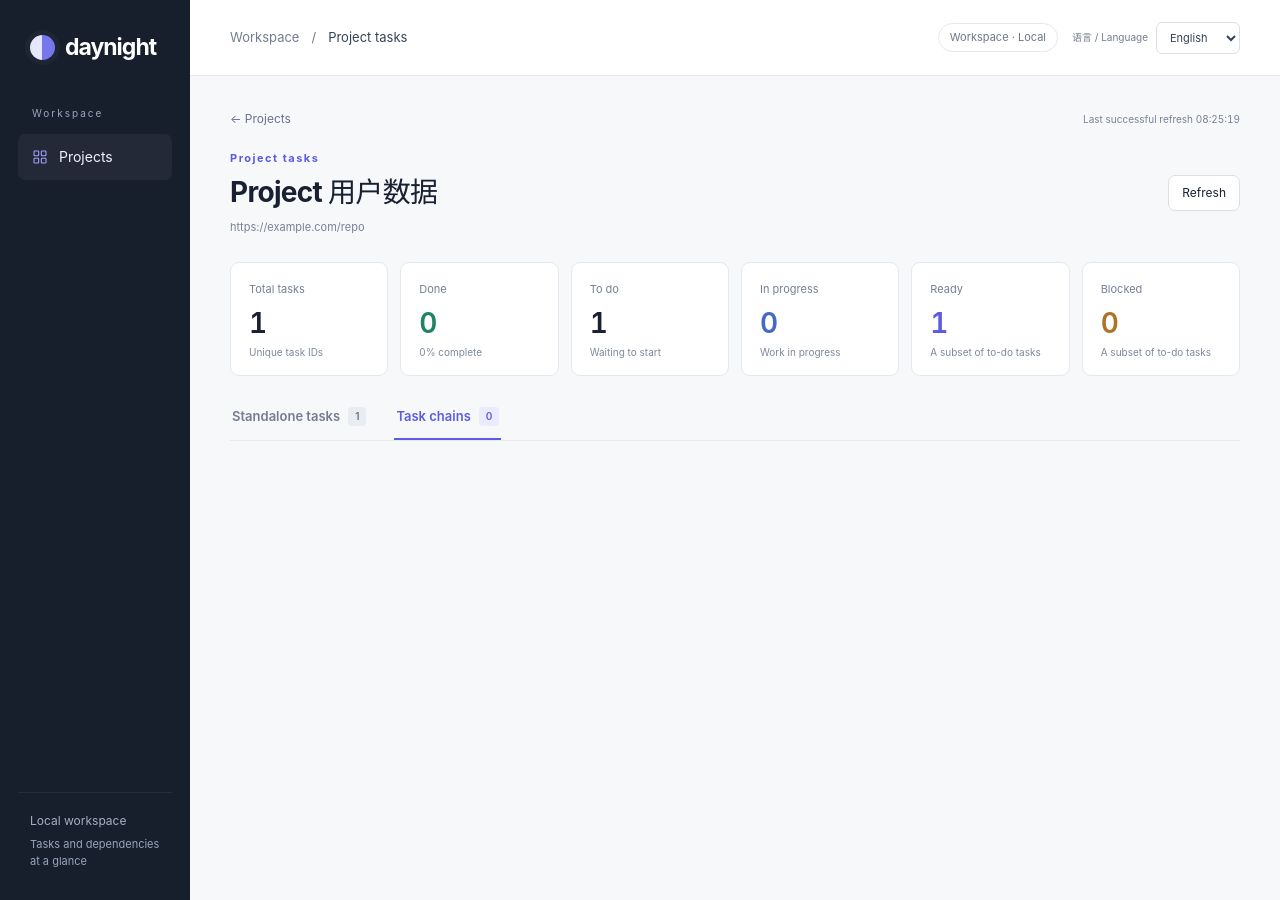
workspace localization › retranslates waiting statistics and standalone rows without changing their identity or refetching
Check: the heading "Project 用户数据" is shown, box [230, 174, 437, 210]
Check: the number of elements with class "stat" is 6, box [230, 262, 388, 376]; [400, 262, 559, 376]; [571, 262, 729, 376]; [741, 262, 899, 376]; [911, 262, 1070, 376]; [1082, 262, 1240, 376]
Click the tab "Standalone tasks 1". click: (299,423)
box: [230, 406, 368, 440]
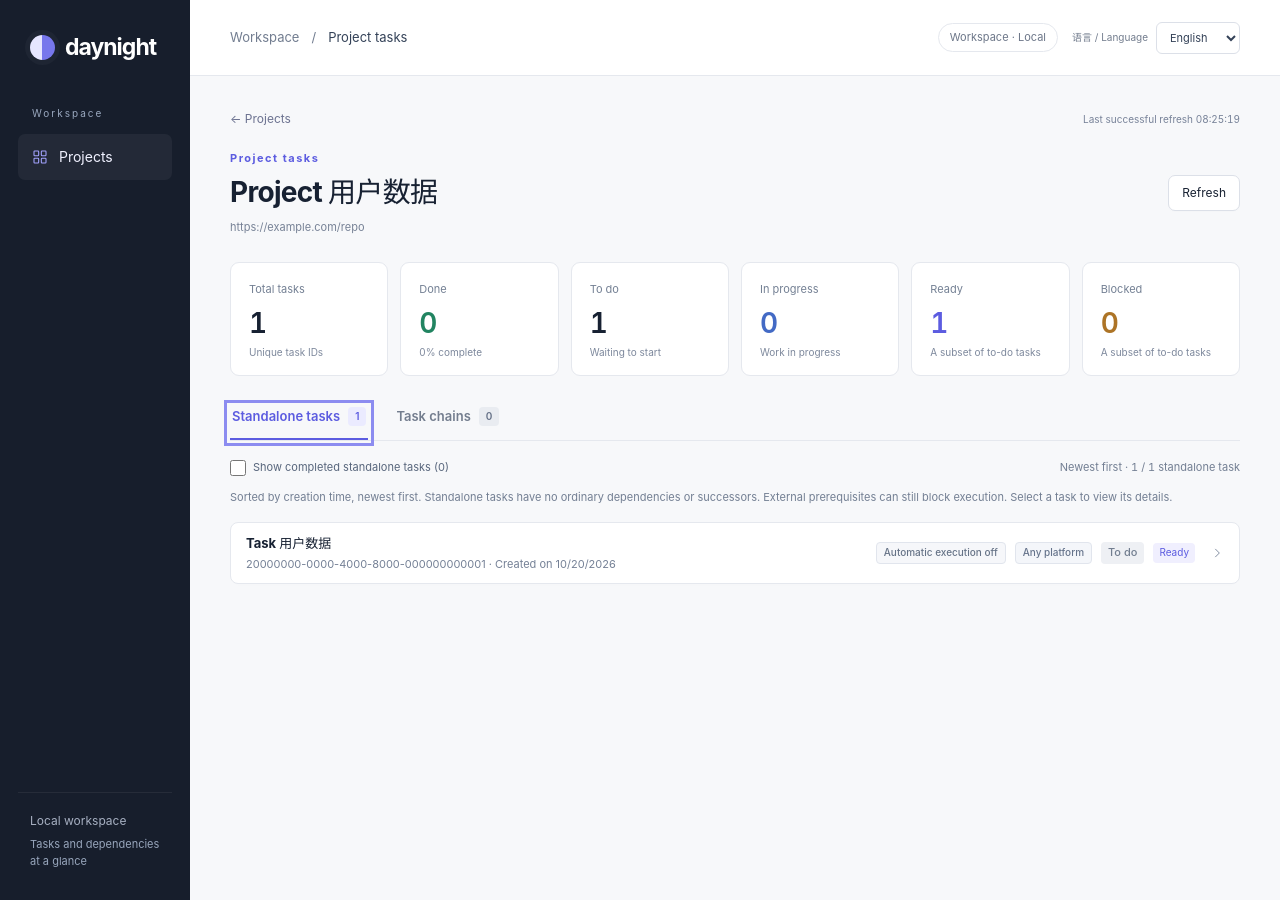
Check: the button "Task 用户数据" shows "To do", box [230, 522, 1240, 584]
Check: the button "Task 用户数据" shows "Ready", box [230, 522, 1240, 584]
Select "简体中文" in the dropdown. click: (1198,38)
box: [1156, 22, 1240, 54]
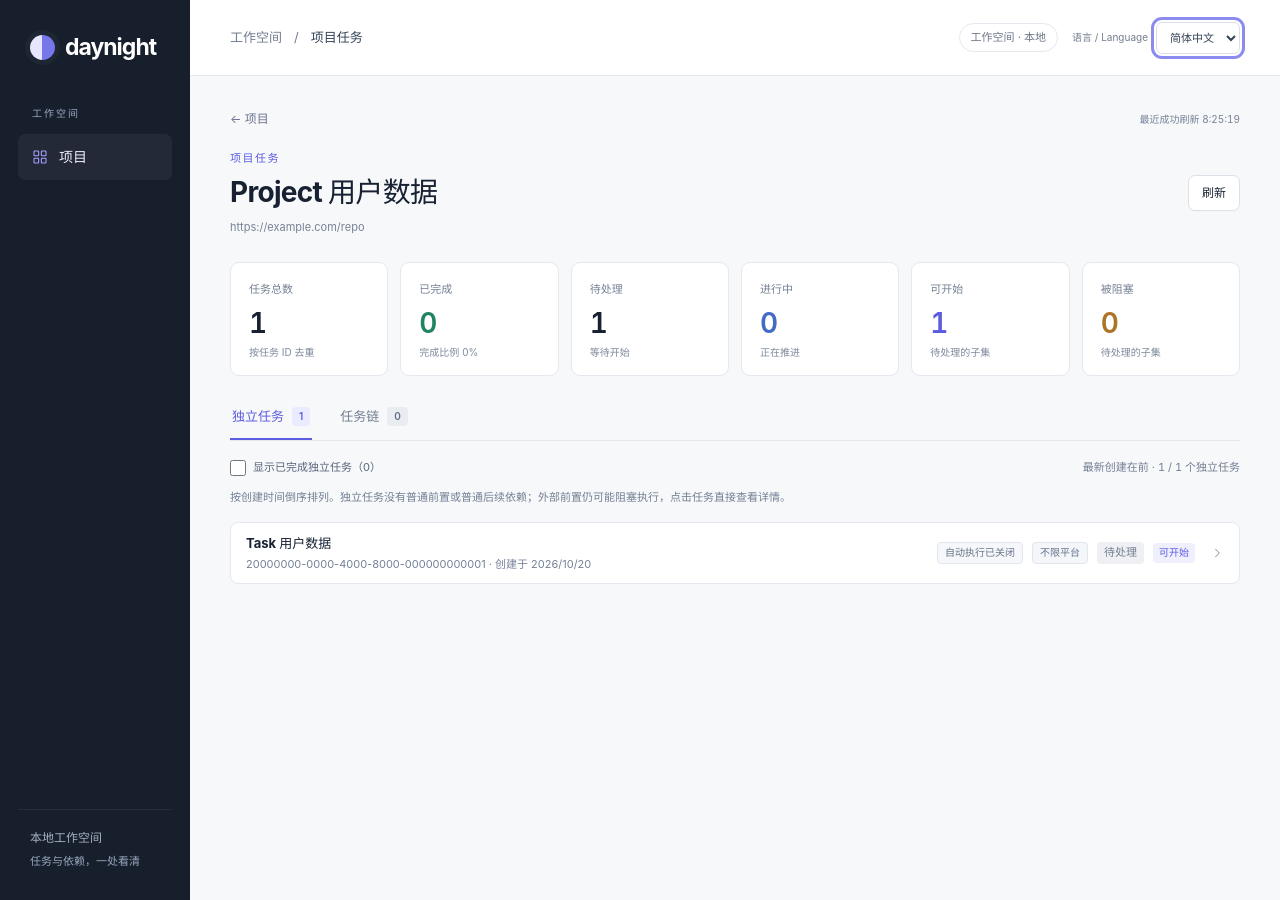
Check: the element with class "stat" reads "待处理 1 等待开始", box [571, 262, 729, 376]
Check: the button "Task 用户数据" shows "待处理", box [230, 522, 1240, 584]
Check: the button "Task 用户数据" shows "可开始", box [230, 522, 1240, 584]
